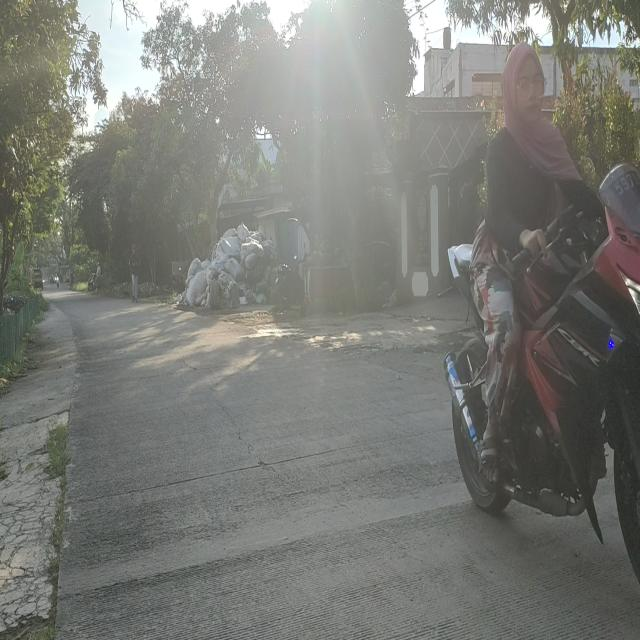no-helmet: (499, 38, 548, 130)
